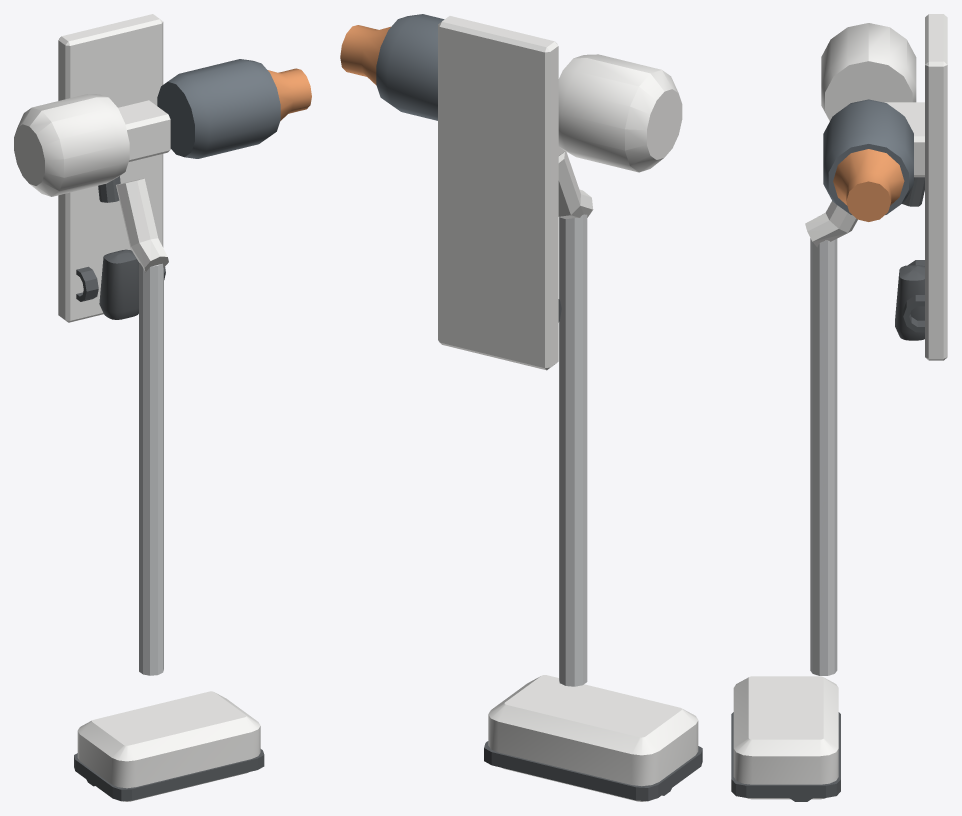
The model's file is home-appliances-and-utility-vacuum-stick-cordless-dock-3fba9cf1__14154.glb.
The picture shows the model from 3 angles, left to right: view 1: azimuth 30°, elevation 25°; view 2: azimuth 150°, elevation 25°; view 3: azimuth 270°, elevation 25°; orthographic projection. The views are drawn at different scales.
Visible parts, largest first — view 1: vacuum-stick-cordless-dock; view 2: vacuum-stick-cordless-dock; view 3: vacuum-stick-cordless-dock.
Part boxes in pixels (x1=…): vacuum-stick-cordless-dock: x1=14, y1=14, x2=311, y2=801; vacuum-stick-cordless-dock: x1=340, y1=14, x2=702, y2=801; vacuum-stick-cordless-dock: x1=731, y1=14, x2=947, y2=801.
Size of the model in its own units: 0.445 by 1.08 by 0.288.
